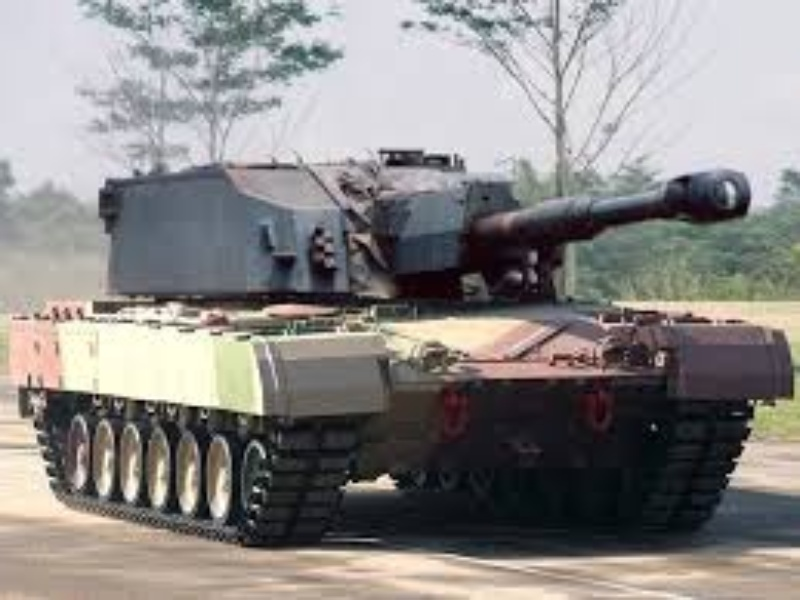tank: (7, 146, 800, 551)
